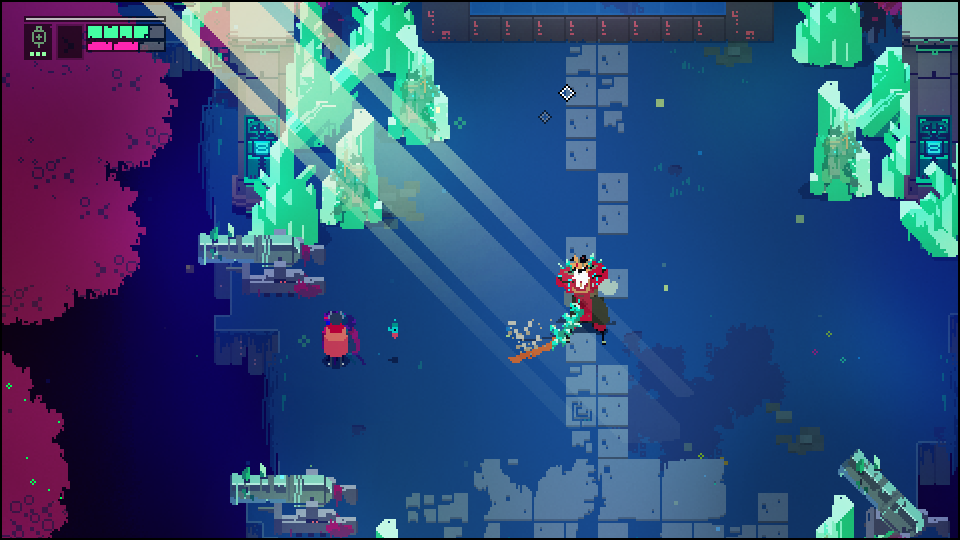hanged_man: (521, 254, 612, 347)
player: (323, 308, 347, 365)
